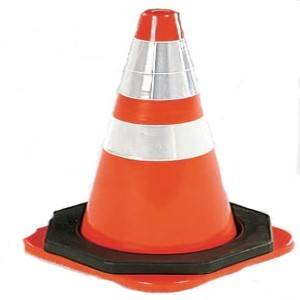traffic cone: (24, 8, 295, 293)
